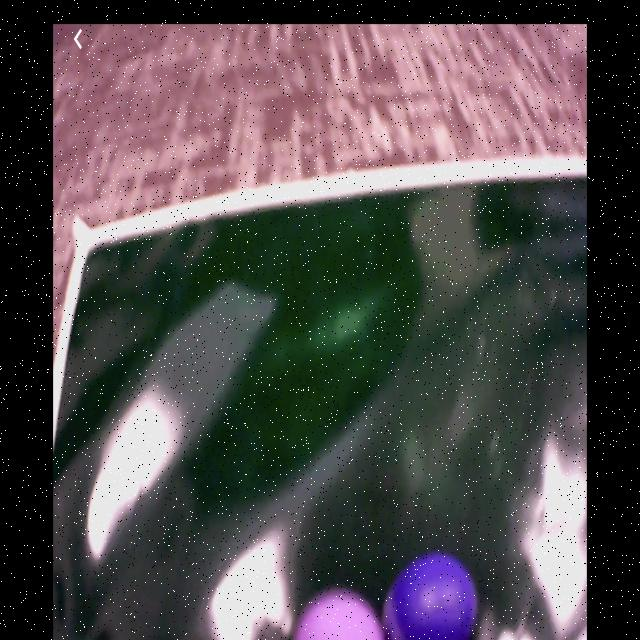ball: (383, 553, 478, 637), (293, 590, 386, 640)
